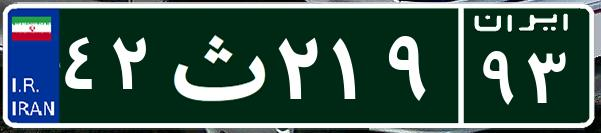1: (330, 28, 385, 110)
2: (273, 28, 330, 110), (110, 28, 158, 105)
3: (525, 38, 570, 115)
4: (57, 26, 110, 107)
9: (385, 28, 445, 110), (475, 38, 525, 113)
ث: (158, 15, 273, 115)
